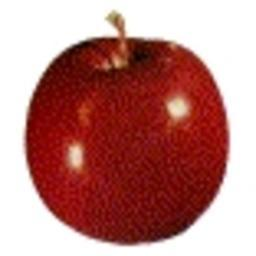apple: (25, 33, 229, 243)
